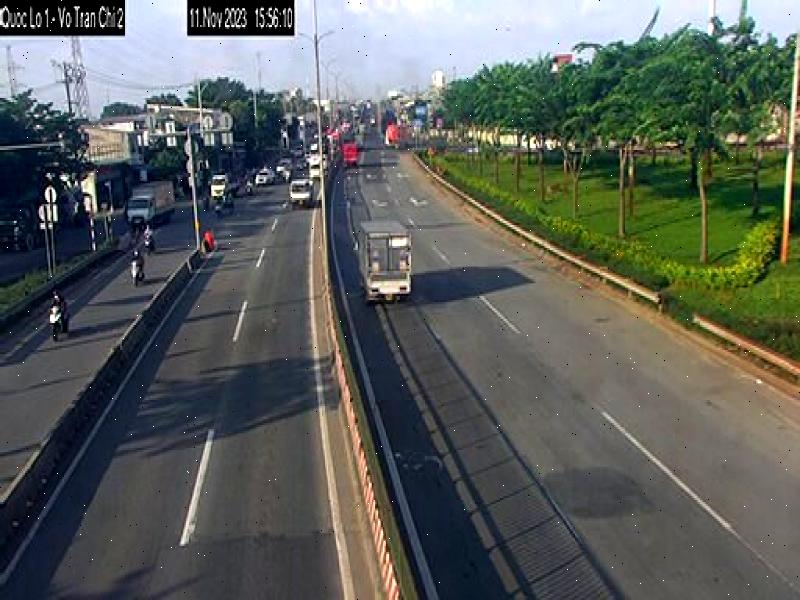truck: (353, 222, 410, 305), (127, 180, 179, 234)
